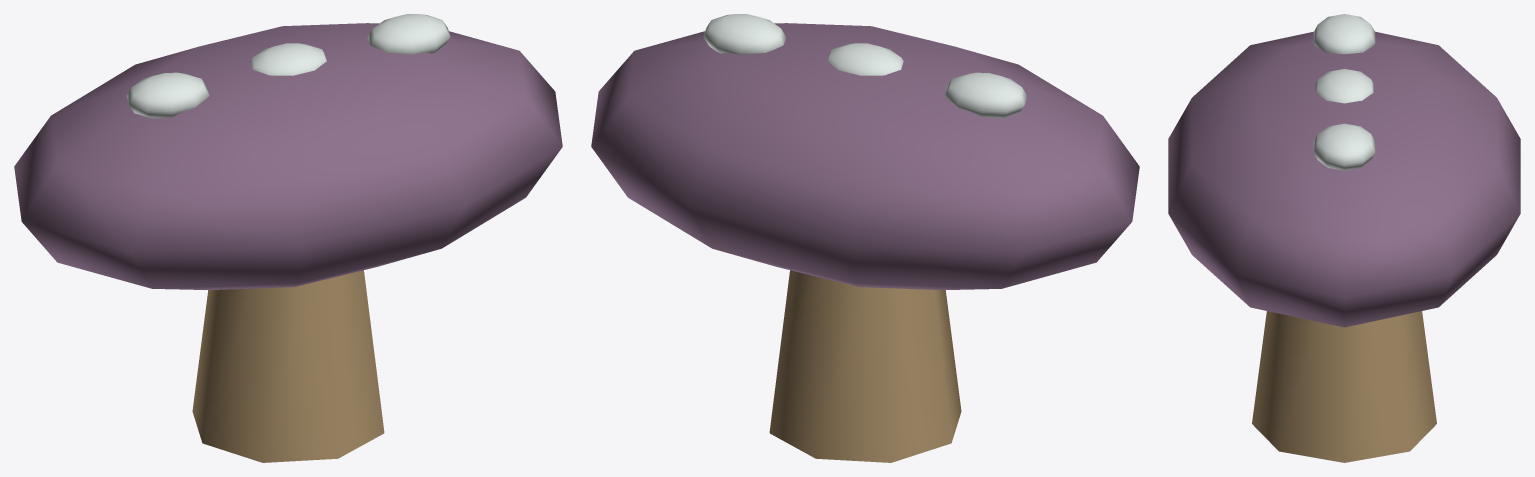
Rendered from fixed-mushroom.glb.
3 views of the same model, side by side, from view 1: azimuth 30°, elevation 25°; view 2: azimuth 150°, elevation 25°; view 3: azimuth 270°, elevation 25° (orthographic). The views are drawn at different scales.
Parts seen in each view (by area): view 1: piece_whole; view 2: piece_whole; view 3: piece_whole.
Boxes of the visible parts, x1=… form: piece_whole: x1=14, y1=14, x2=562, y2=462; piece_whole: x1=591, y1=14, x2=1139, y2=462; piece_whole: x1=1168, y1=14, x2=1520, y2=462.
Size of what is drawn, in the model's own units: 0.62 by 0.415 by 0.3804.
